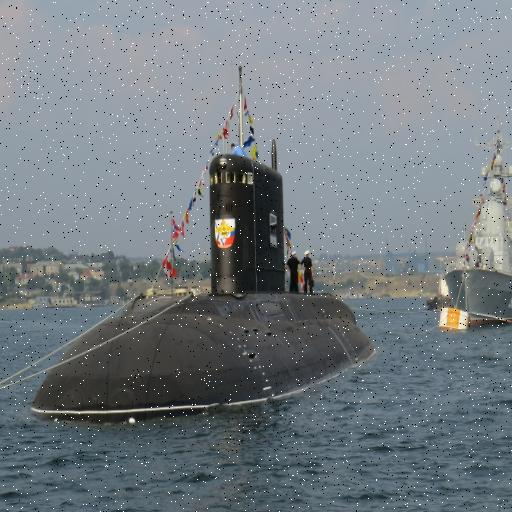submarine: (35, 134, 380, 425)
